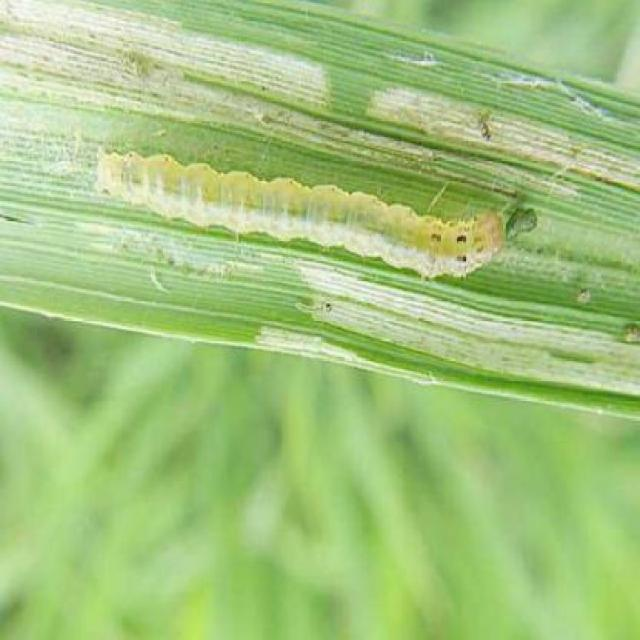leaf-folder: (92, 117, 540, 289)
